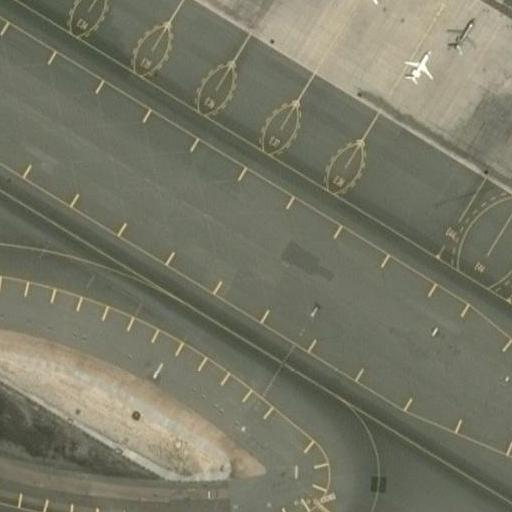Aircraft: (445, 17, 477, 54), (402, 55, 434, 85), (359, 0, 404, 4)
